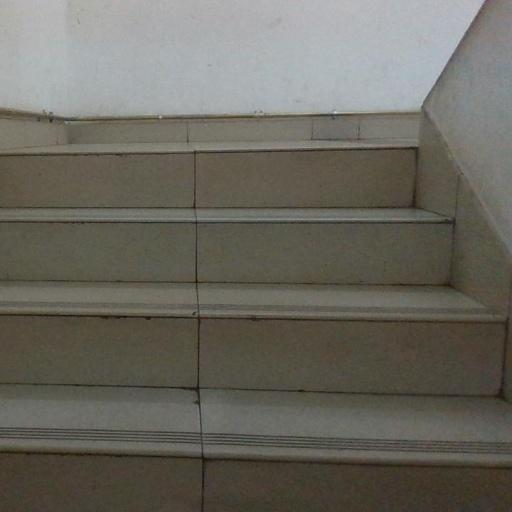stairs: (0, 140, 511, 511)
